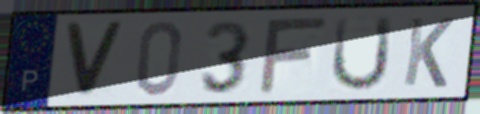0: (134, 19, 185, 98)
3: (198, 19, 254, 96)
F: (255, 14, 332, 97)
K: (400, 15, 457, 90)
U: (327, 14, 396, 94)
V: (61, 21, 128, 101)
